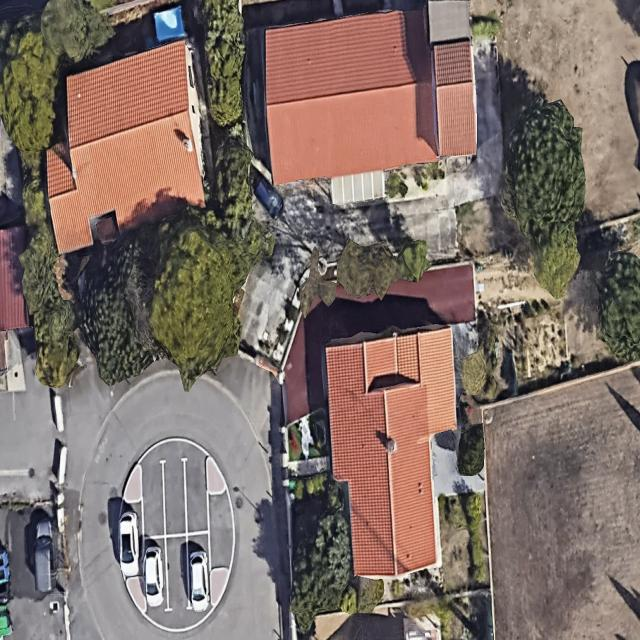maison: (27, 38, 219, 254), (325, 327, 462, 579), (253, 6, 443, 184), (434, 41, 478, 155)
